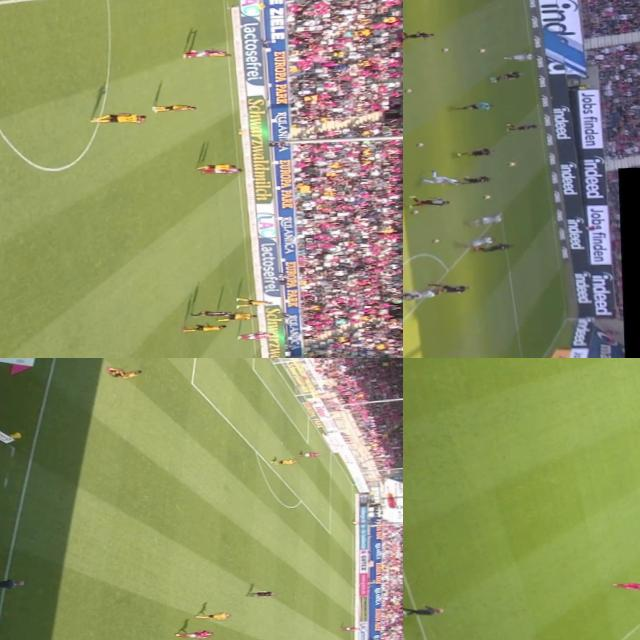ball: (482, 194, 494, 200), (409, 210, 418, 216), (414, 142, 424, 146), (506, 162, 516, 166), (431, 238, 441, 242), (442, 48, 448, 52), (404, 89, 412, 92), (479, 49, 484, 53)
player: (91, 111, 148, 125), (106, 364, 148, 381), (424, 171, 460, 186), (423, 282, 468, 294), (152, 102, 196, 114), (406, 196, 450, 208), (486, 70, 527, 82), (185, 48, 234, 58), (464, 215, 504, 227), (202, 166, 246, 176), (185, 322, 229, 332), (233, 330, 277, 340), (471, 243, 514, 253), (174, 629, 212, 640), (403, 289, 438, 300), (452, 149, 494, 158), (403, 30, 431, 43), (220, 312, 256, 322), (196, 611, 232, 621), (196, 162, 234, 171), (465, 236, 495, 247), (185, 48, 226, 56), (499, 53, 533, 62), (235, 298, 272, 306), (264, 458, 296, 467), (454, 178, 494, 185), (506, 123, 539, 131), (613, 581, 640, 590), (296, 452, 324, 459), (403, 290, 416, 301), (338, 626, 360, 632)
